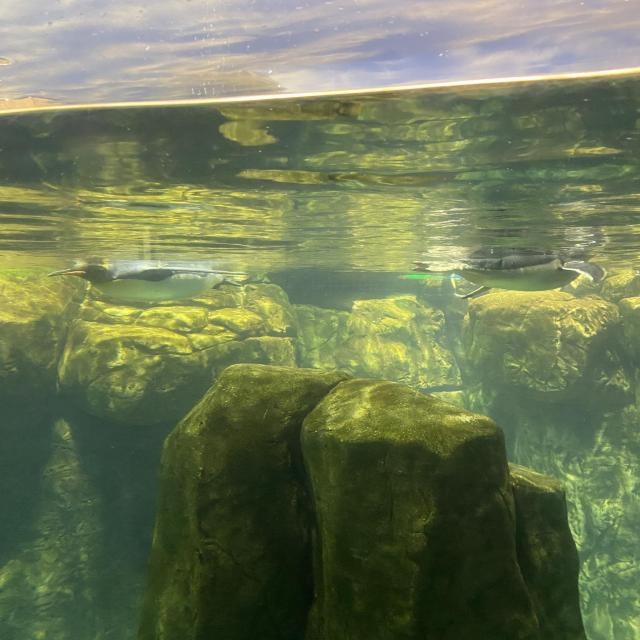starfish: (409, 251, 604, 300), (46, 261, 242, 302)
